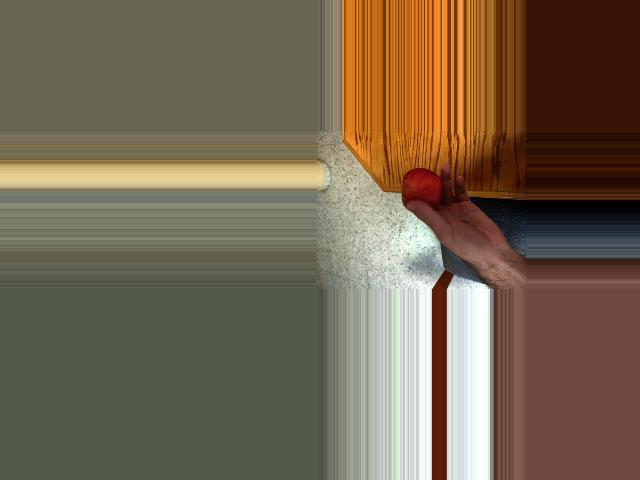apple: (401, 168, 444, 215)
